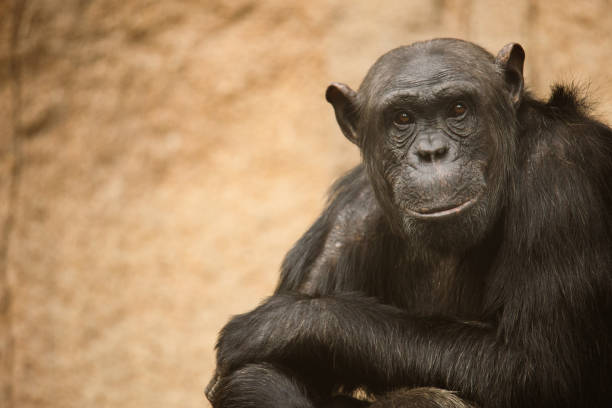chimpanzee: (309, 22, 534, 267)
